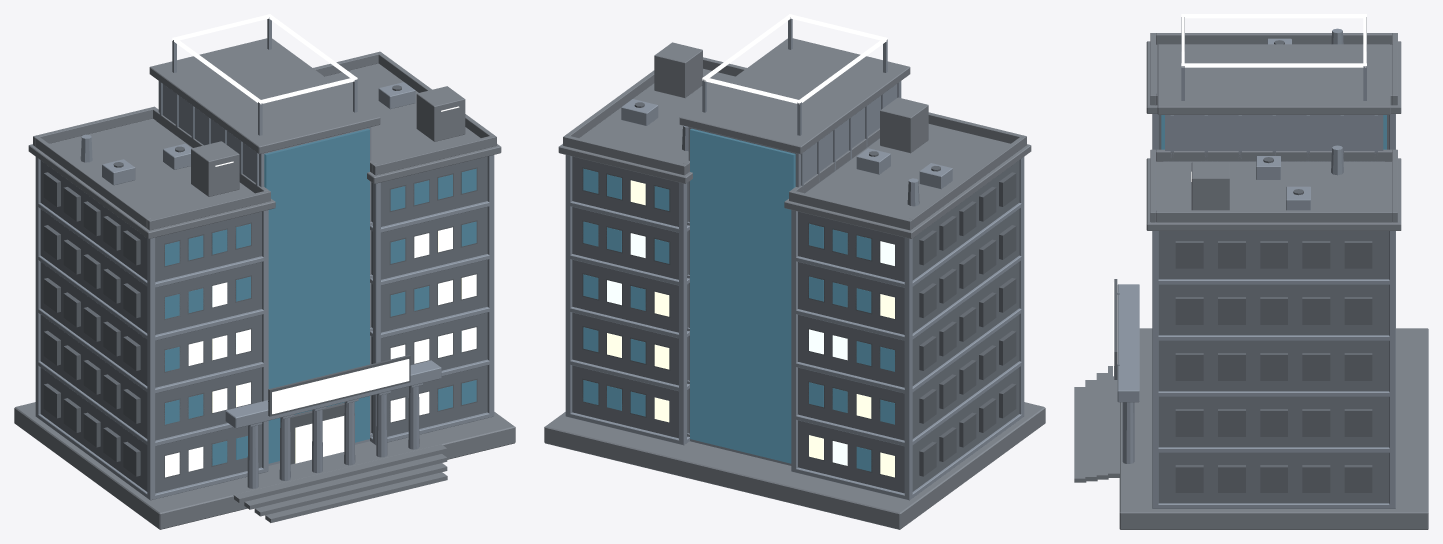
File: verification_institute.glb
The picture shows the model from 3 angles, left to right: view 1: azimuth 30°, elevation 25°; view 2: azimuth 150°, elevation 25°; view 3: azimuth 270°, elevation 25°; orthographic projection. The views are drawn at different scales.
Visible parts, largest first — view 1: verification_institute_Concrete@civic, verification_institute_Graphite@civic, verification_institute_BlackGlass, verification_institute_Steel@civic, verification_institute_DarkAlloy@civic, verification_institute_White, verification_institute_WarmGlass, verification_institute_CoolGlass; view 2: verification_institute_Concrete@civic, verification_institute_Graphite@civic, verification_institute_BlackGlass, verification_institute_Steel@civic, verification_institute_DarkAlloy@civic, verification_institute_WarmGlass, verification_institute_CoolGlass, verification_institute_White; view 3: verification_institute_Concrete@civic, verification_institute_Graphite@civic, verification_institute_Steel@civic, verification_institute_DarkAlloy@civic, verification_institute_White.
Boxes of the visible parts, x1,y1,x2,y2 form: verification_institute_Concrete@civic: (14, 38, 515, 529); verification_institute_Graphite@civic: (40, 156, 487, 493); verification_institute_BlackGlass: (165, 128, 476, 465); verification_institute_Steel@civic: (35, 17, 494, 500); verification_institute_DarkAlloy@civic: (43, 85, 477, 478); verification_institute_White: (172, 14, 459, 414); verification_institute_WarmGlass: (165, 227, 476, 477); verification_institute_CoolGlass: (212, 280, 476, 422); verification_institute_Concrete@civic: (544, 38, 1045, 529); verification_institute_Graphite@civic: (572, 156, 1019, 493); verification_institute_BlackGlass: (583, 128, 894, 471); verification_institute_Steel@civic: (565, 17, 1024, 500); verification_institute_DarkAlloy@civic: (582, 102, 1016, 478); verification_institute_WarmGlass: (607, 180, 894, 477); verification_institute_CoolGlass: (607, 233, 894, 465); verification_institute_White: (702, 14, 887, 104); verification_institute_Concrete@civic: (1074, 33, 1428, 529); verification_institute_Graphite@civic: (1158, 115, 1389, 503); verification_institute_Steel@civic: (1117, 17, 1395, 508); verification_institute_DarkAlloy@civic: (1114, 40, 1372, 492); verification_institute_White: (1113, 14, 1366, 376).
Bounding box in the file's own units: 24 × 24.19 × 19.49.
